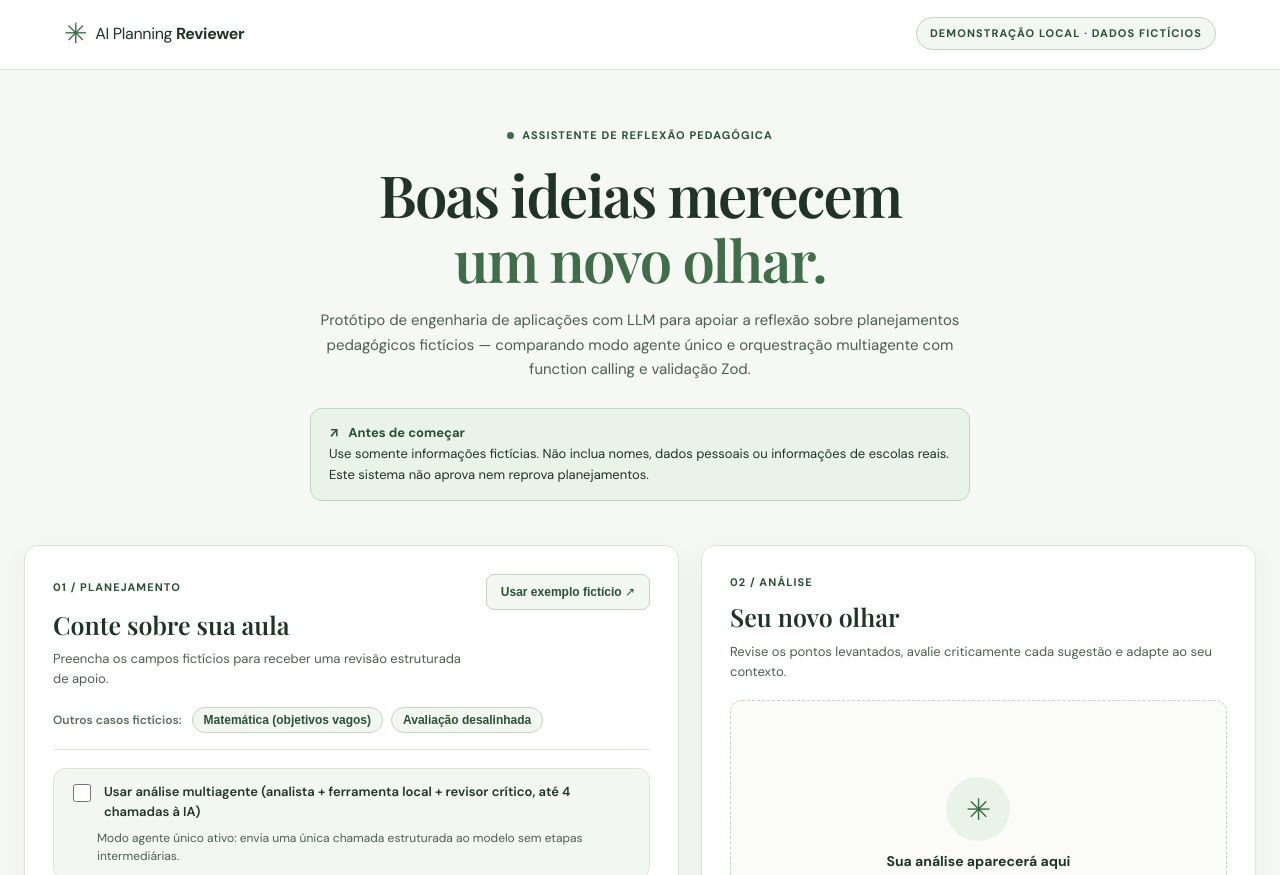
Test: permite cancelar requisição multiagente pendente
Click the button "Usar exemplo fictício ↗" at (568, 592), box [486, 574, 650, 610]
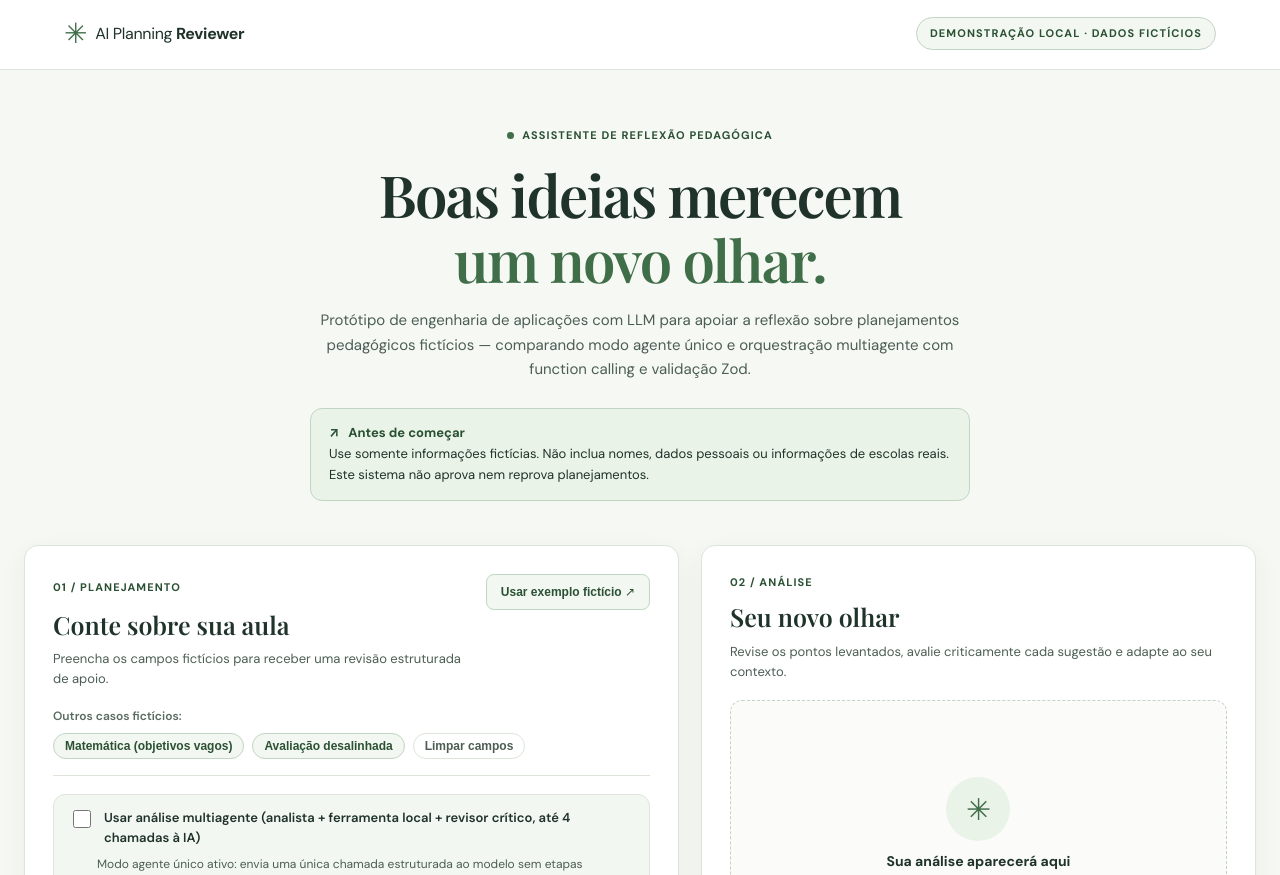
Click the checkbox labelled "multiagente" at (82, 819), box [73, 810, 91, 828]
(page scrolled)
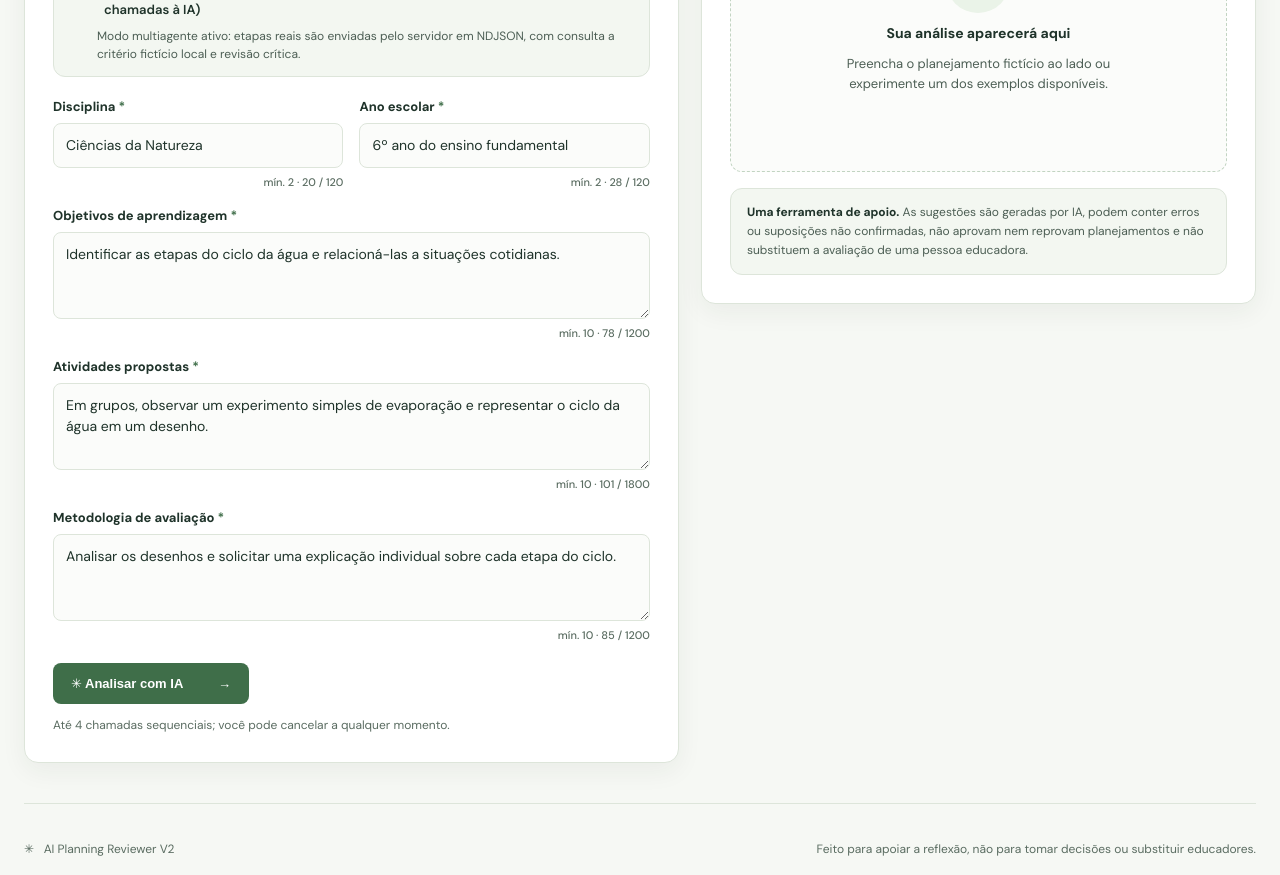
Click the button "✳ Analisar com IA →" at (151, 684), box [53, 663, 249, 704]
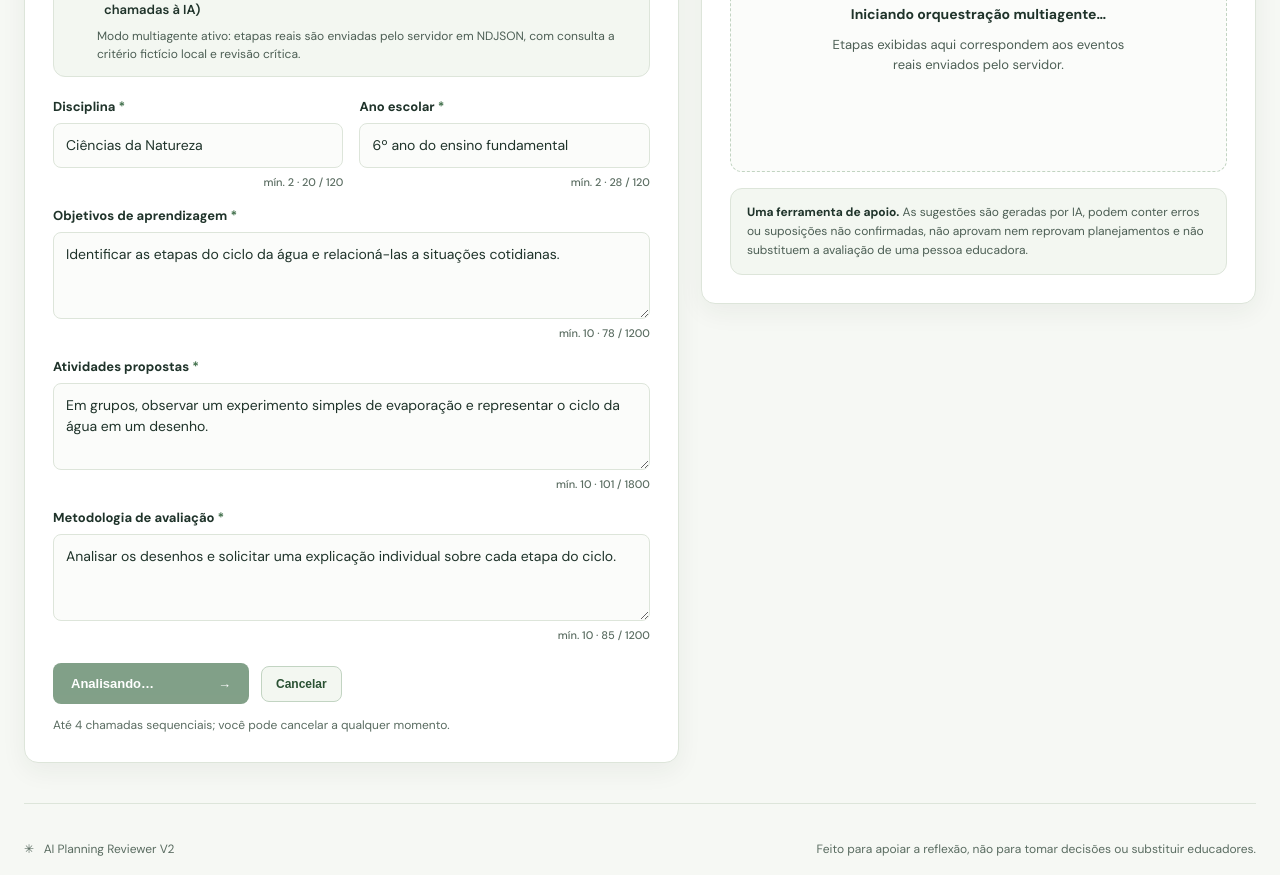
Click the button "Cancelar" at (301, 684), box [261, 666, 342, 702]
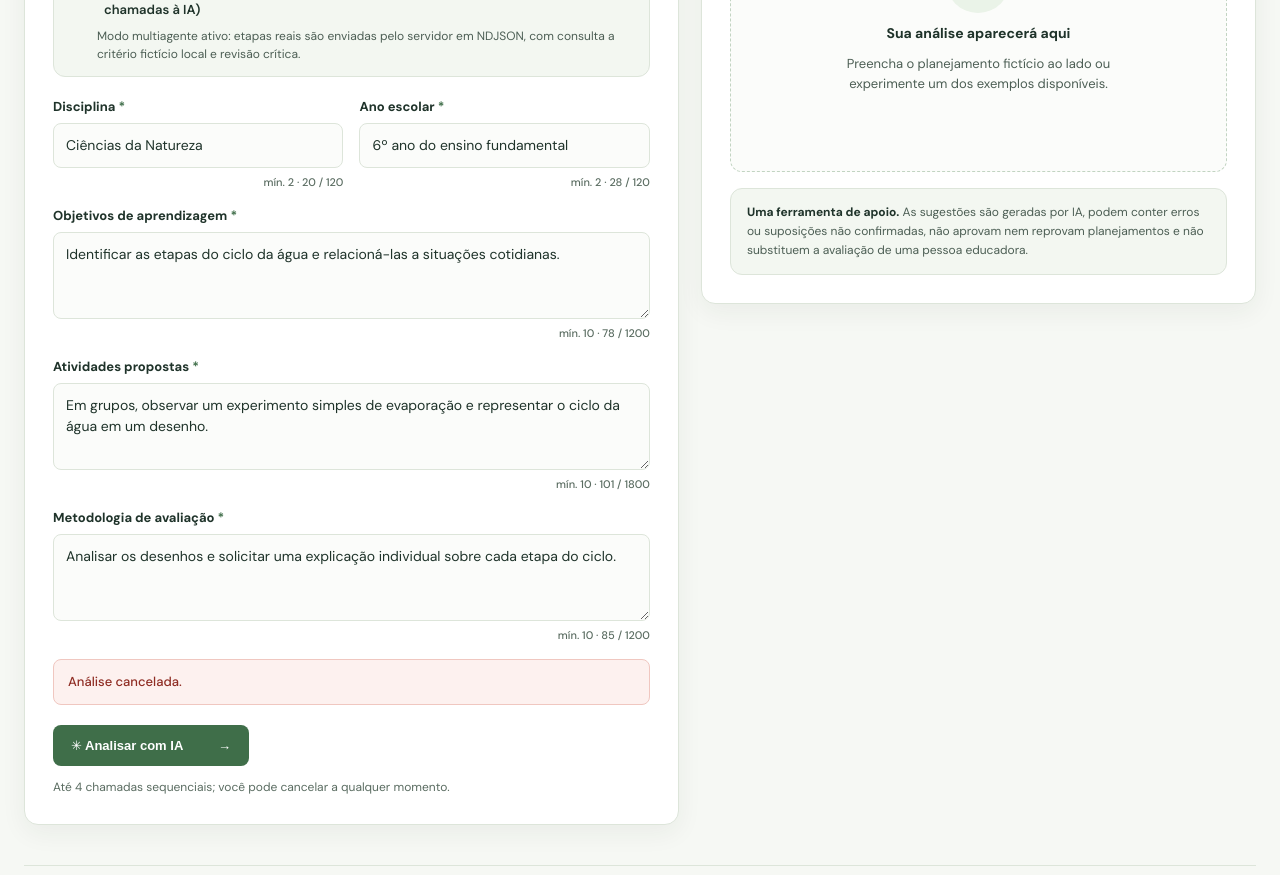
Now the message shows "cancelada", box [68, 673, 182, 690]
